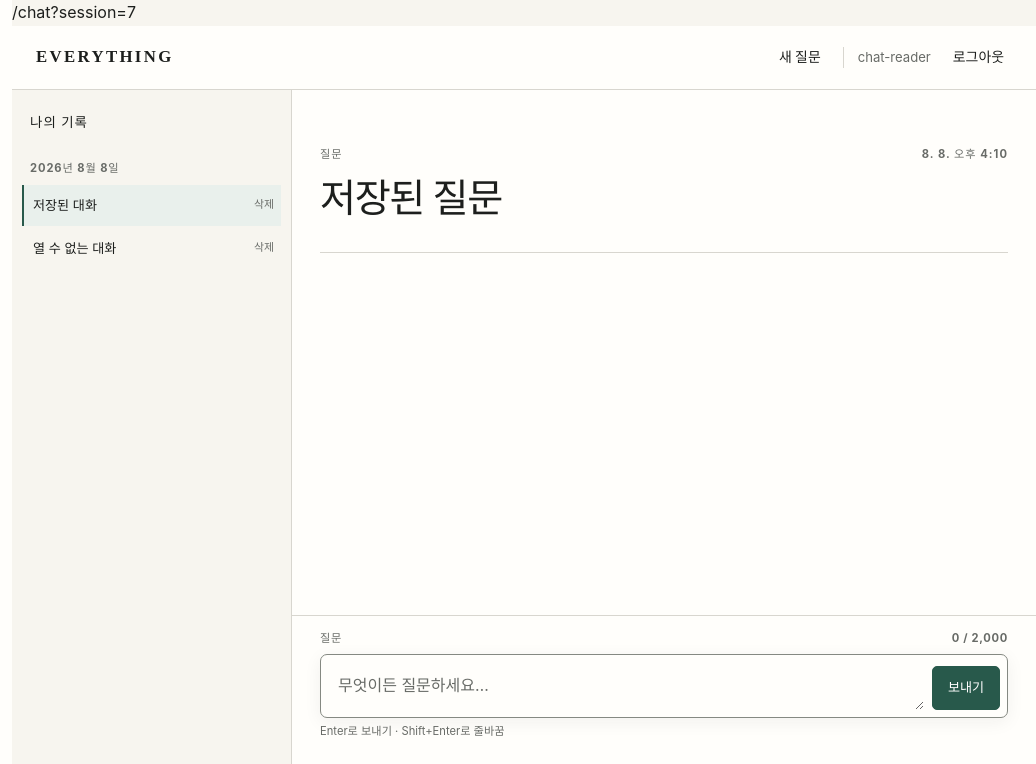
Test: ChatPage › restores the active session while a different session request is still pending
The width and height of the screenshot is (1036, 764).
expect the heading "저장된 질문" is shown: met, box [320, 176, 502, 220]
Note: 응답이 지연될 두 번째 대화를 선택한다.
Click the button "열 수 없는 대화": click(136, 248) [24, 228, 247, 268]
(page scrolled)
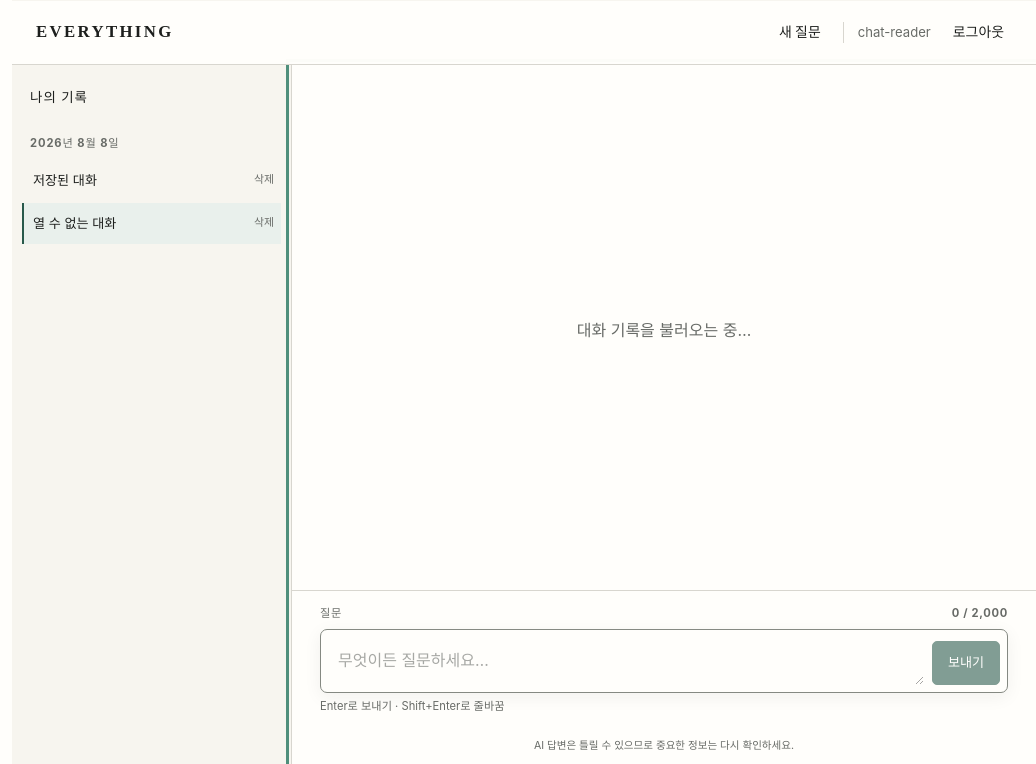
expect the text "대화 기록을 불러오는 중…" is shown: met, box [577, 318, 751, 344]
Note: 느린 GET이 끝나기 전에 메모리에 있는 첫 대화로 돌아간다.
Click the button "저장된 대화": click(136, 180) [24, 160, 247, 200]
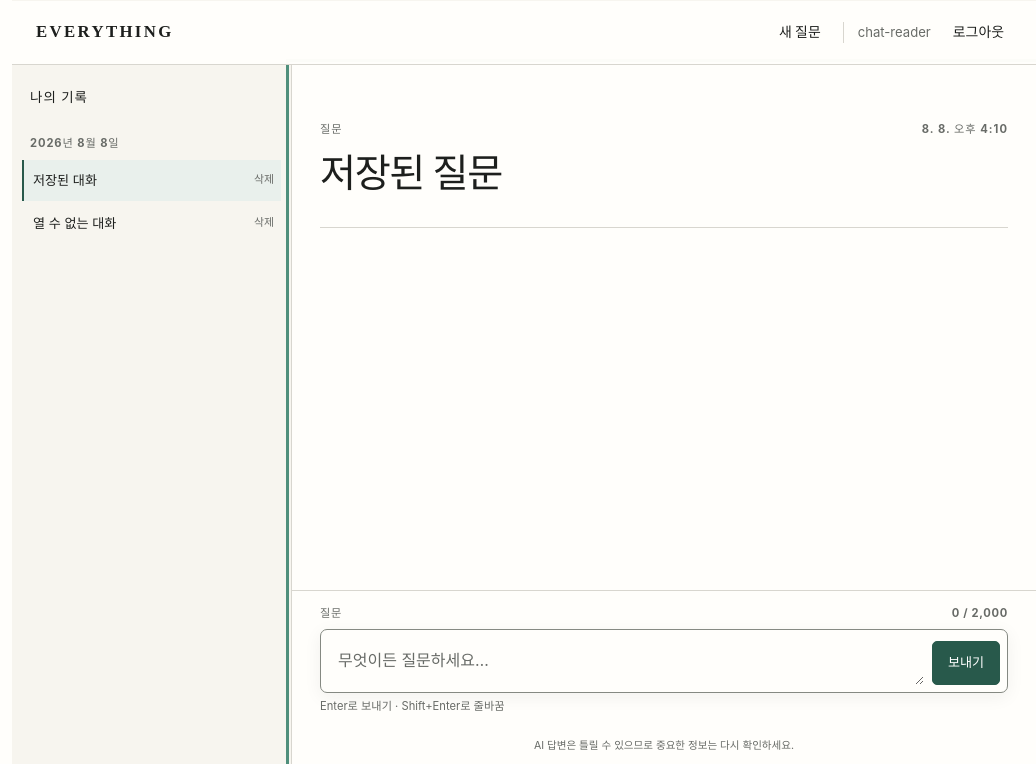
expect the heading "저장된 질문" is shown: met, box [320, 152, 502, 194]
